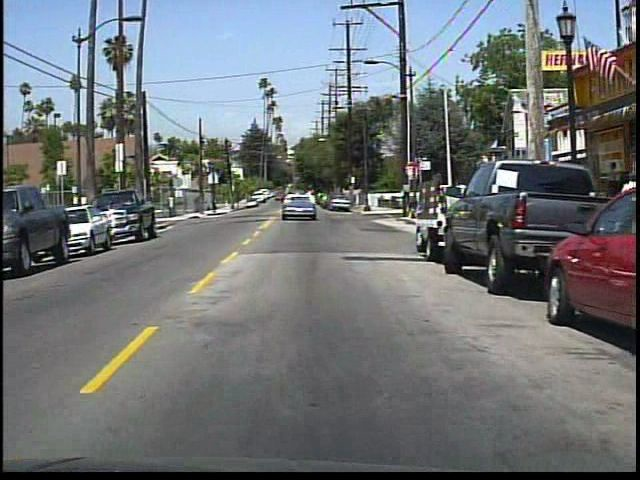person: (614, 168, 638, 253)
